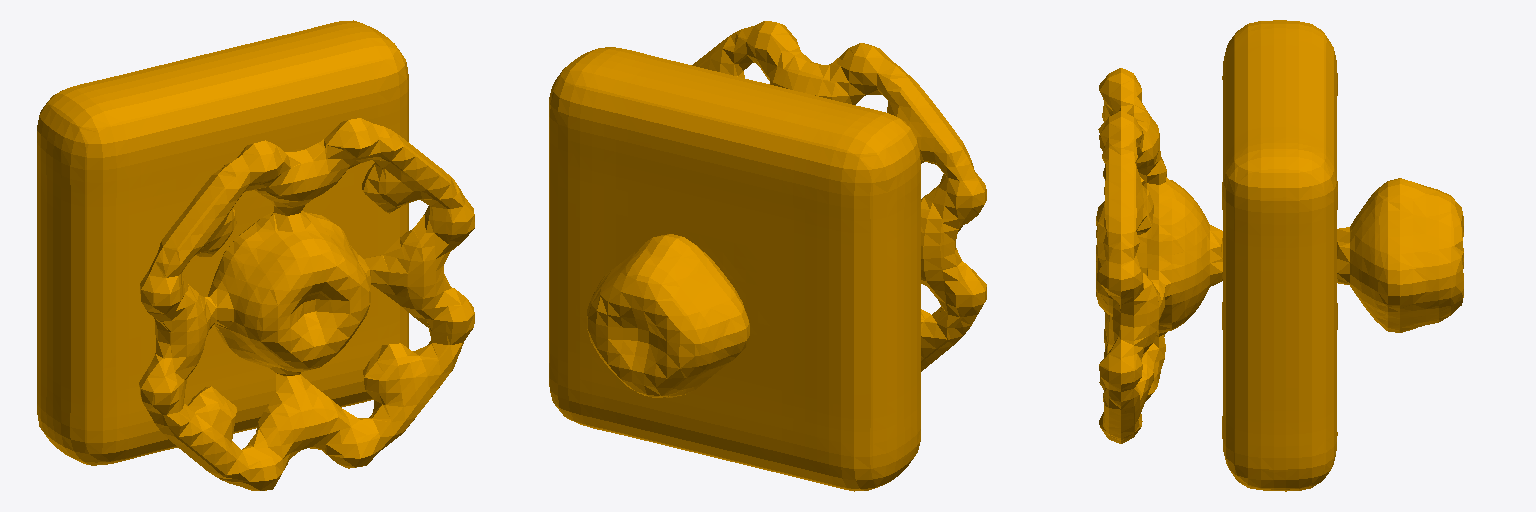
URDF robot description (object):
<?xml version="1.0"?>
        <robot name="object">
          <link name="object">
            <visual>
              <origin xyz="0.0 0.0 0.0"/>
              <geometry>
                <mesh filename="D5.stl" scale="1.00 1.00 1.00"/>
              </geometry>
            </visual>
            <collision>
              <origin xyz="0.0 0.0 0.0"/>
              <geometry>
                <mesh filename="D5.stl" scale="1.00 1.00 1.00"/>
              </geometry>
            </collision>
          </link>
        </robot>

--- Facts derived from the render (not from the file) ---
Views: 3 orthographic renders of the robot side by side, from view 1: azimuth 30°, elevation 25°; view 2: azimuth 150°, elevation 25°; view 3: azimuth 270°, elevation 25°.
Model object with 1 links and 0 joints (none), rooted at object, posed every joint at zero.
Links seen in each view (by area): view 1: object; view 2: object; view 3: object.
Boxes of the visible links, x1,y1,x2,y2 form: object: [37, 20, 474, 490]; object: [549, 21, 986, 491]; object: [1096, 20, 1463, 491].
Size in the robot's own frame: 0.1 by 0.0979 by 0.1 metres.
1 mesh visuals loaded from 1 distinct referenced files (1 binary STL).